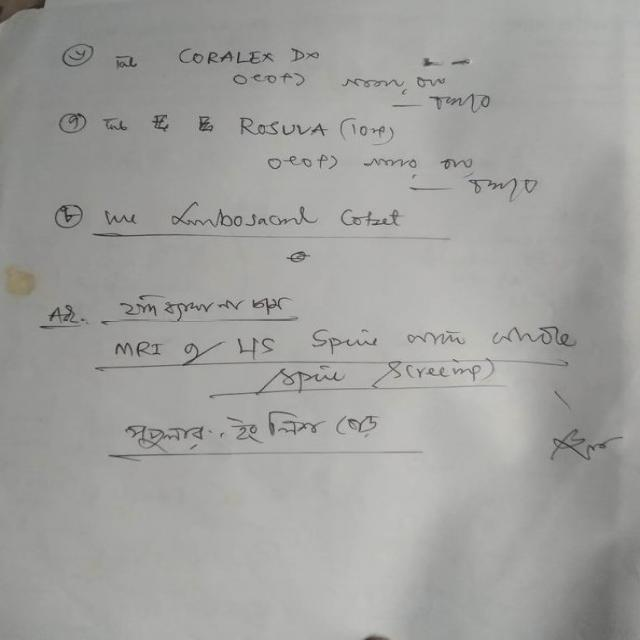Coralex DX: (174, 41, 325, 70)
Rosuva: (231, 110, 333, 143)
